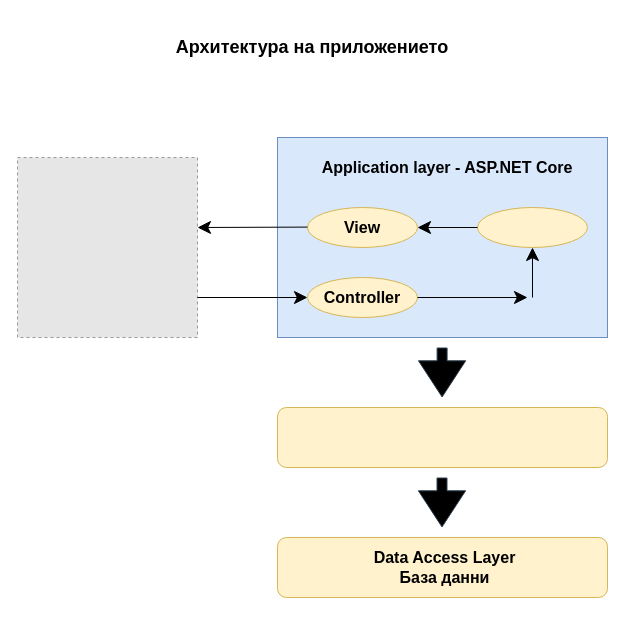
Image size: 625x617. Some labels were removed from this diagram. Grey dashed boxes stand in for pictures. The centre of each missing label's shape, as x and y in pixels:
Business Layer Главната логика на проекта: [442,437]
Model: [532,227]
